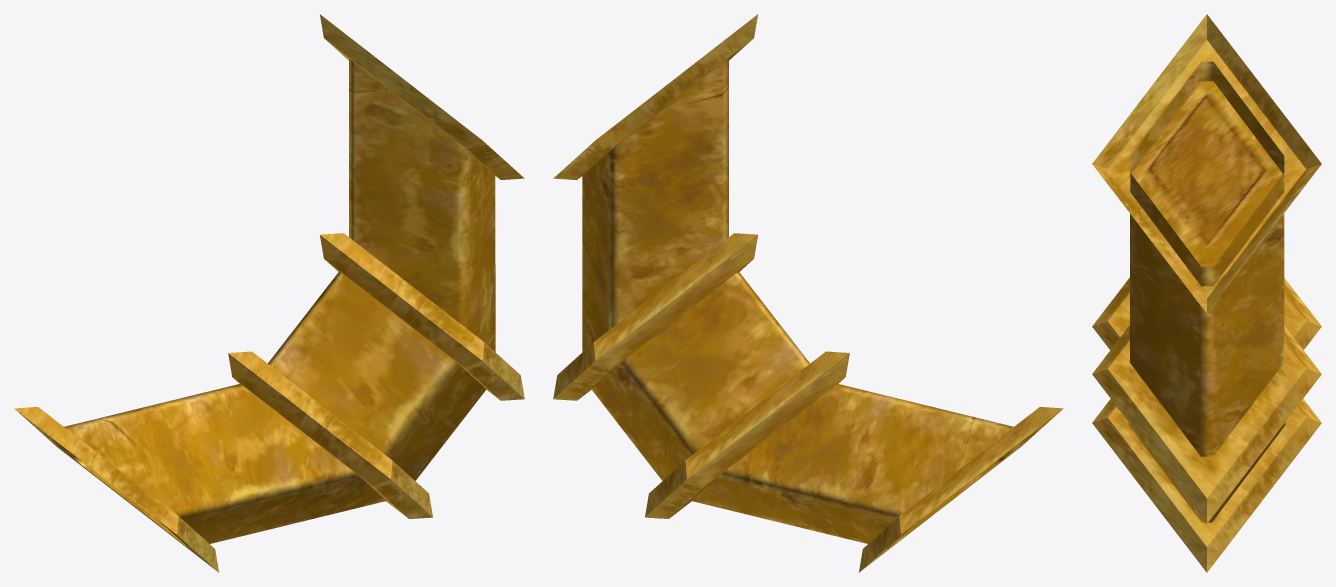
The picture shows the model from 3 angles, left to right: view 1: azimuth 30°, elevation 25°; view 2: azimuth 150°, elevation 25°; view 3: azimuth 270°, elevation 25°; orthographic projection. The views are drawn at different scales.
Parts seen in each view (by area): view 1: SM_Dragonkin_Pipe_Small_Elbow_02_v1_LOD0; view 2: SM_Dragonkin_Pipe_Small_Elbow_02_v1_LOD0; view 3: SM_Dragonkin_Pipe_Small_Elbow_02_v1_LOD0.
Boxes of the visible parts, <box> form: SM_Dragonkin_Pipe_Small_Elbow_02_v1_LOD0: <box>14,14,524,572</box>; SM_Dragonkin_Pipe_Small_Elbow_02_v1_LOD0: <box>553,14,1063,572</box>; SM_Dragonkin_Pipe_Small_Elbow_02_v1_LOD0: <box>1092,14,1321,572</box>.
Bounding box in the file's own units: 1.67 × 1.67 × 0.6836.
1 material, 1 textured.
